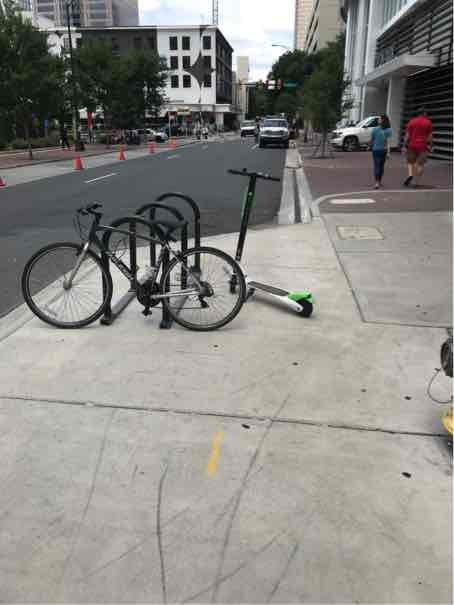scooter: (219, 158, 331, 337)
